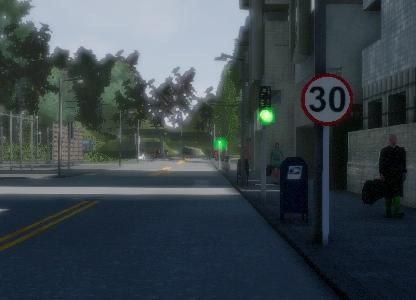Speed_30: (300, 71, 354, 129)
